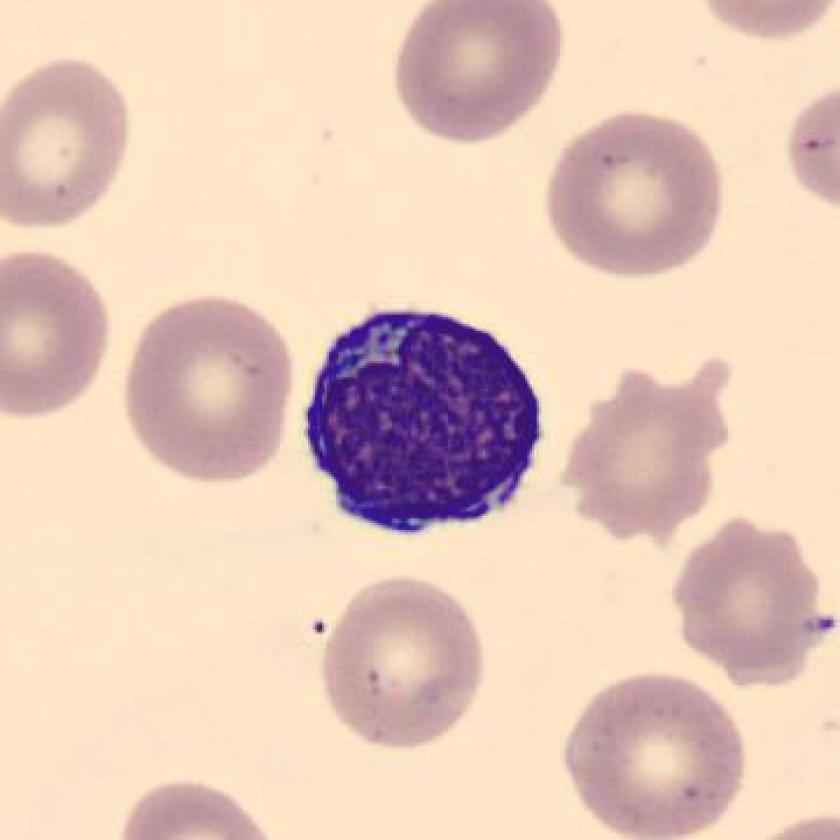lymphocyte: (288, 288, 563, 556)
